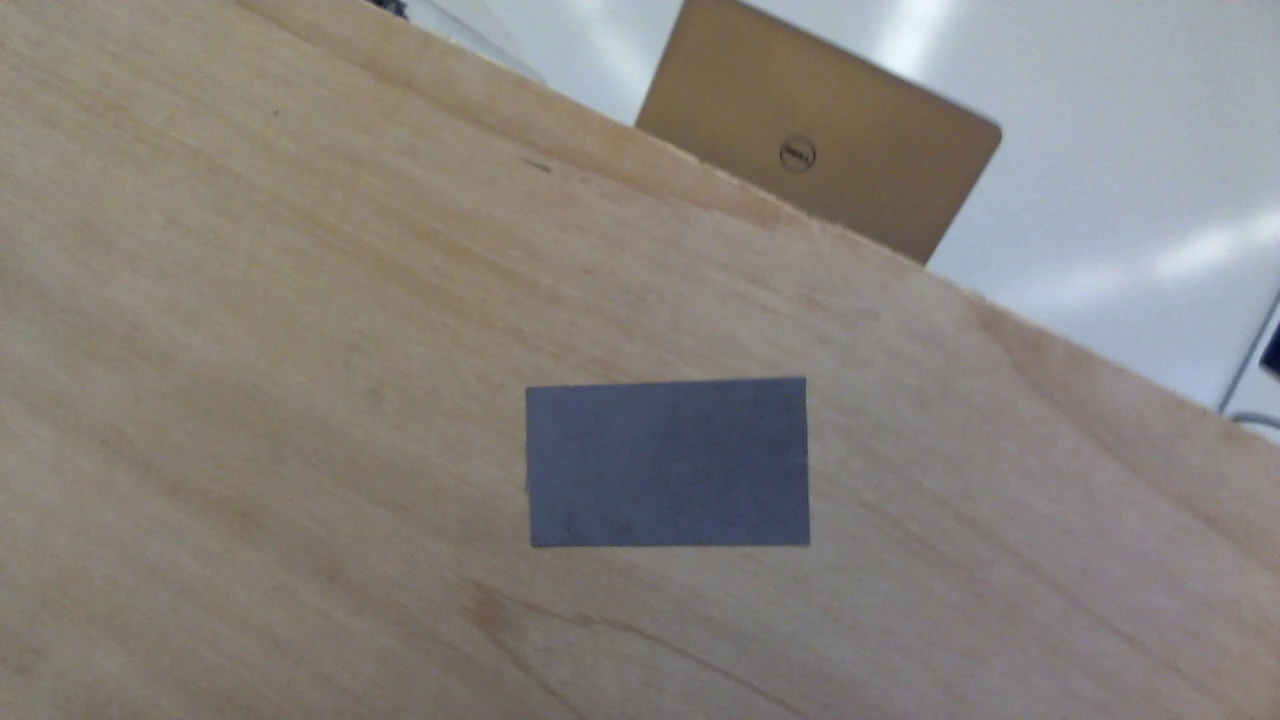Tape: (525, 376, 812, 547)
